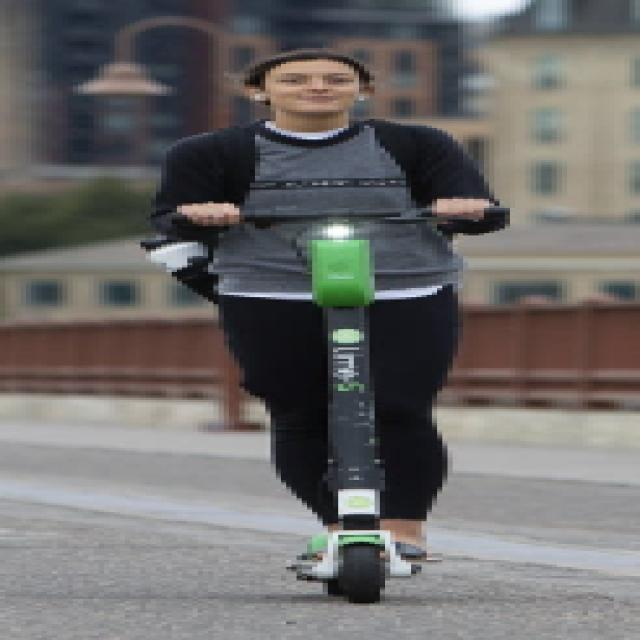non-helmet: (115, 30, 546, 613)
